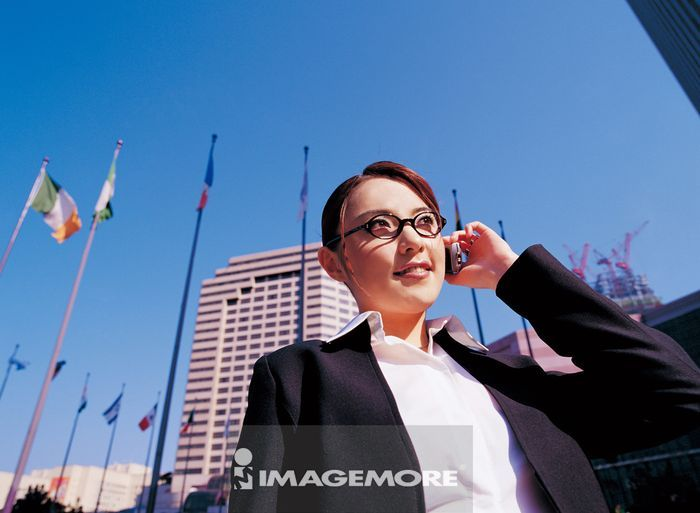talk: (358, 203, 500, 312)
